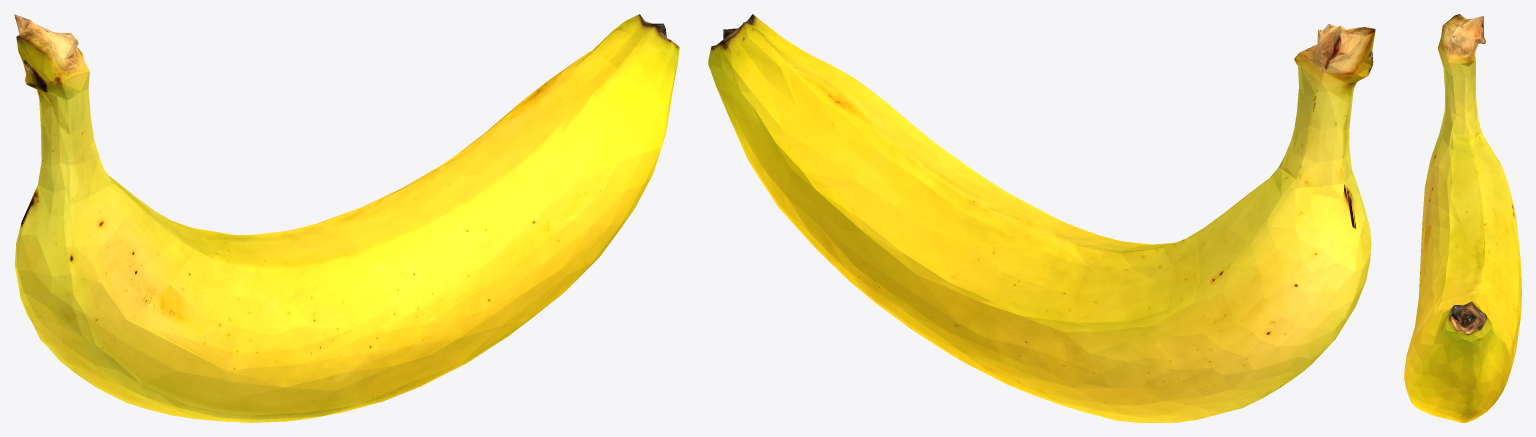
Rendered from banana-v1.glb.
The picture shows the model from 3 angles, left to right: view 1: azimuth 30°, elevation 25°; view 2: azimuth 150°, elevation 25°; view 3: azimuth 270°, elevation 25°; orthographic projection. The views are drawn at different scales.
Visible parts, largest first — view 1: banana; view 2: banana; view 3: banana.
Boxes of the visible parts, x1=… form: banana: x1=14, y1=14, x2=679, y2=422; banana: x1=708, y1=14, x2=1375, y2=422; banana: x1=1404, y1=14, x2=1521, y2=422.
Bounding box in the file's own units: 6.79 × 4.45 × 1.62.
1 material, 1 textured.
